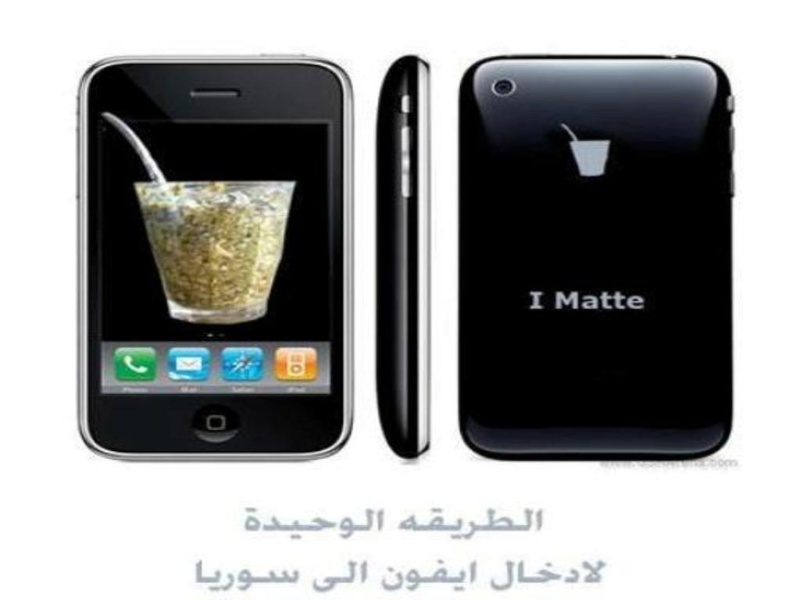cellphone: (68, 48, 355, 467), (368, 49, 442, 467)
